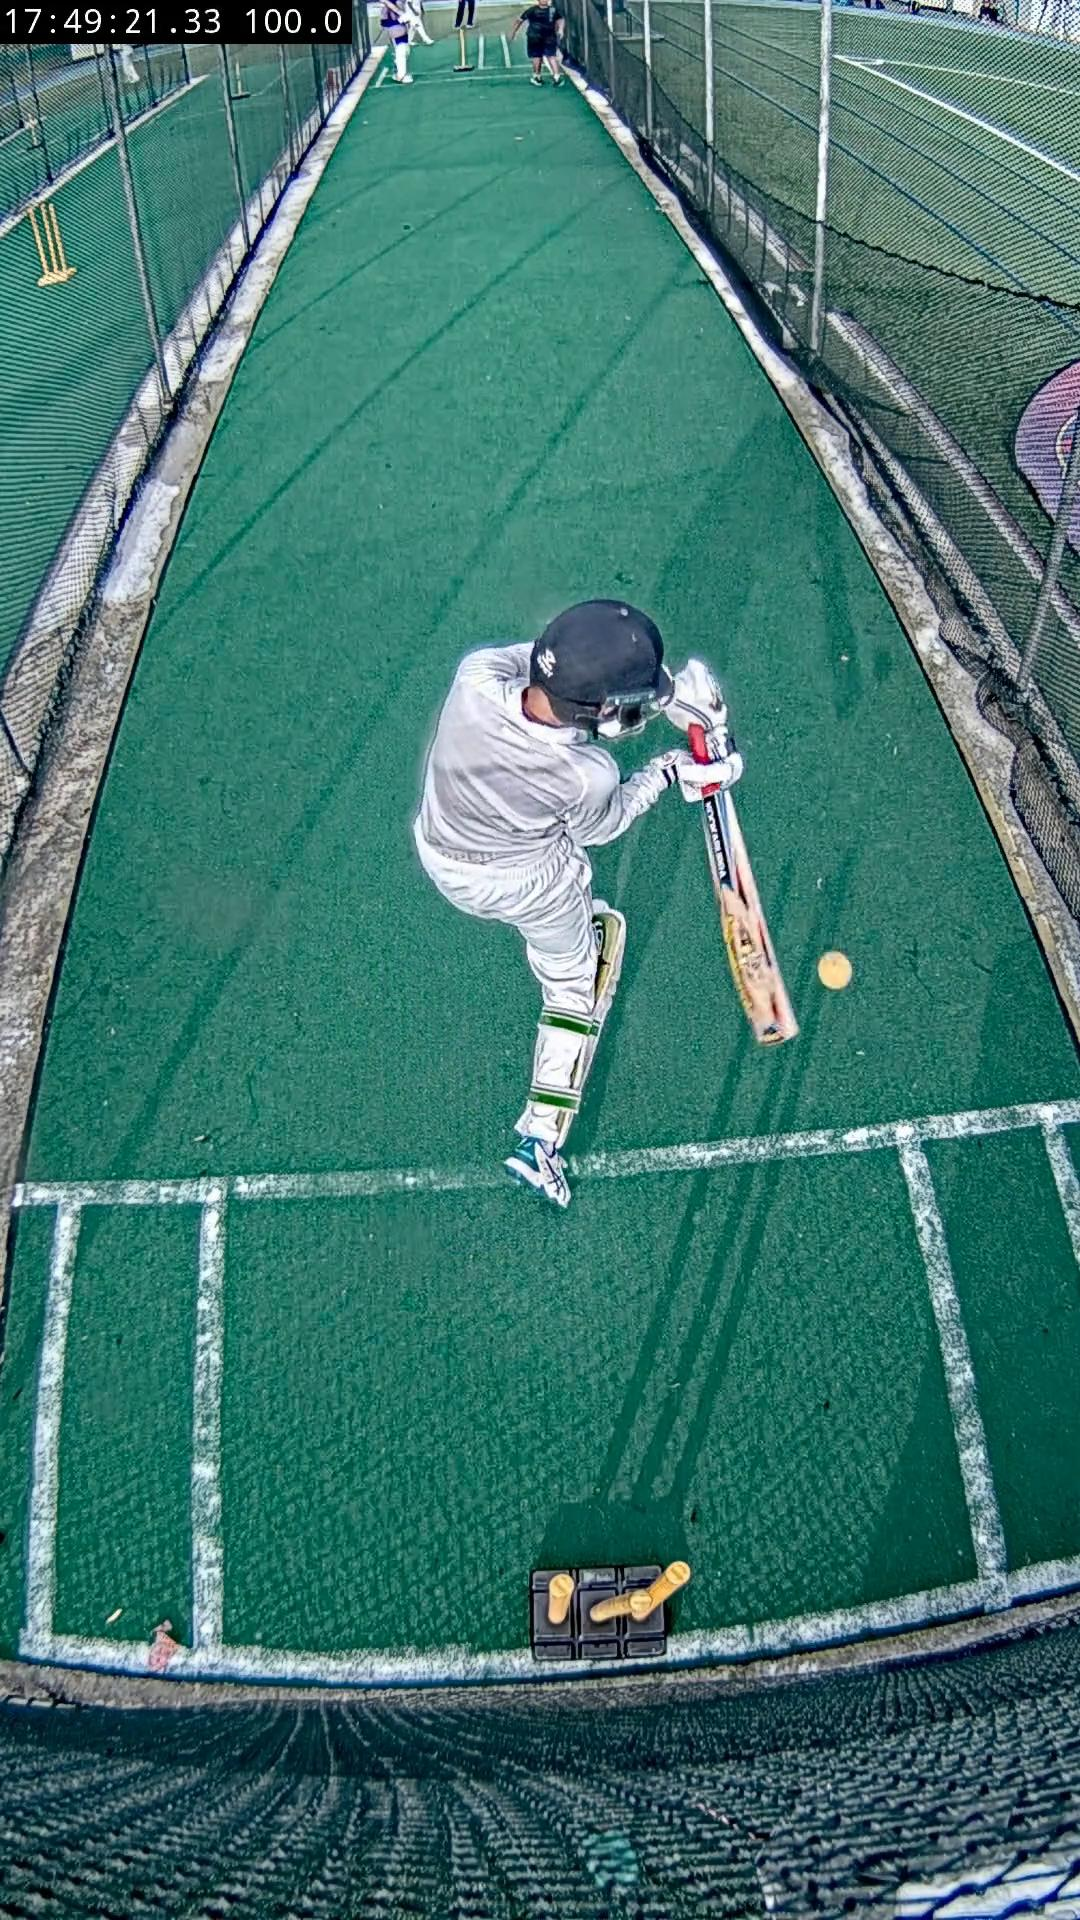ball: (818, 952, 852, 990)
bat: (705, 791, 799, 1040)
gloves: (663, 657, 728, 732), (675, 754, 742, 803)
helmet: (533, 600, 671, 738)
pads: (529, 899, 626, 1146)
stumps: (533, 1564, 690, 1662)
